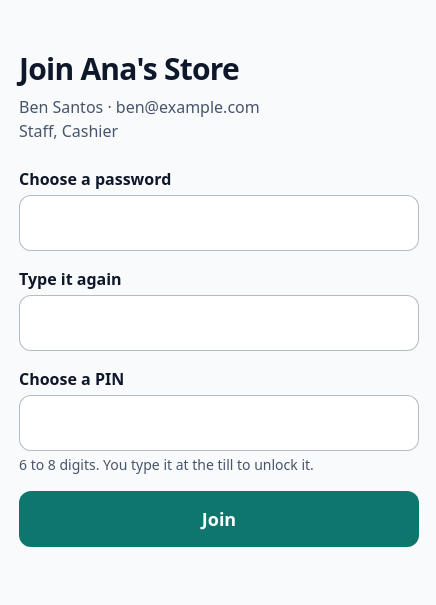
Scenario: EnrolPage › says so when the link was used or expired while the form was open
Expected: the heading "Join Ana's Store" is shown, 19,48 -> 239,89
In the password field labelled "Choose a password": (219, 223) 19,195 -> 419,251, type "long enough pass"
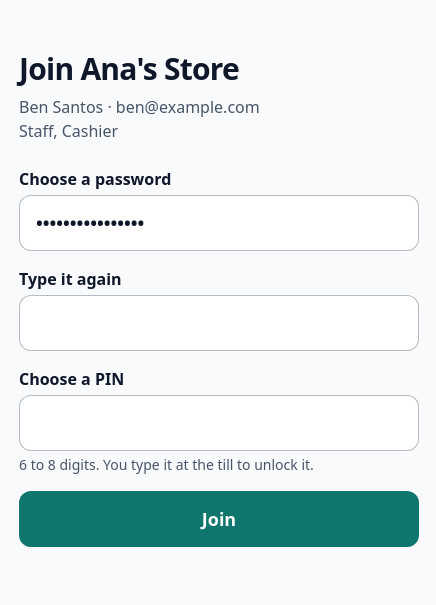
In the password field labelled "Type it again": (219, 323) 19,295 -> 419,351, type "long enough pass"
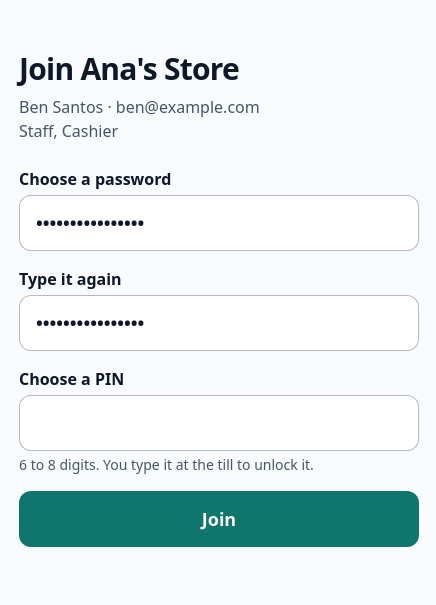
In the 3rd password field: (219, 423) 19,395 -> 419,451, type "482112"
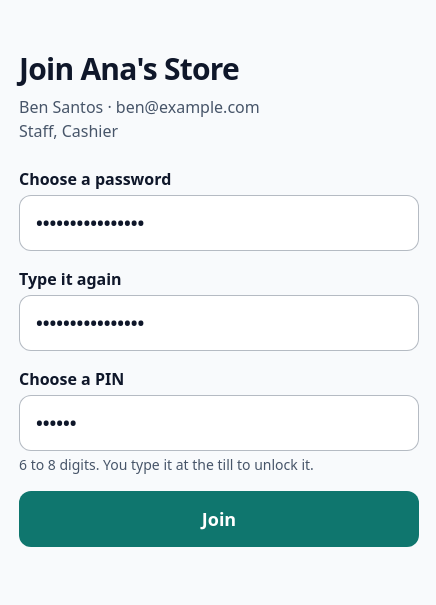
Click the button "Join": click(219, 519) 19,491 -> 419,547
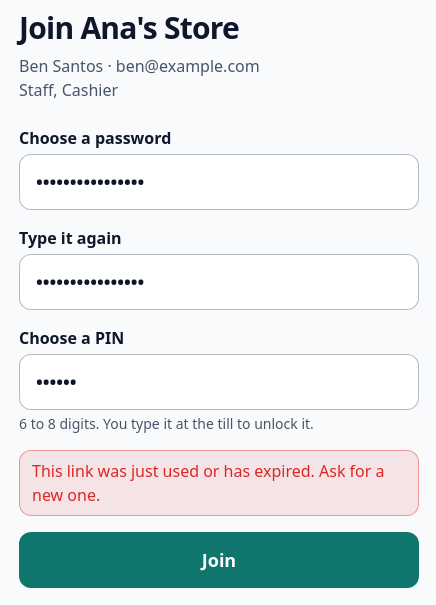
Expected: the message shows "just used or has expired", 32,460 -> 384,506
